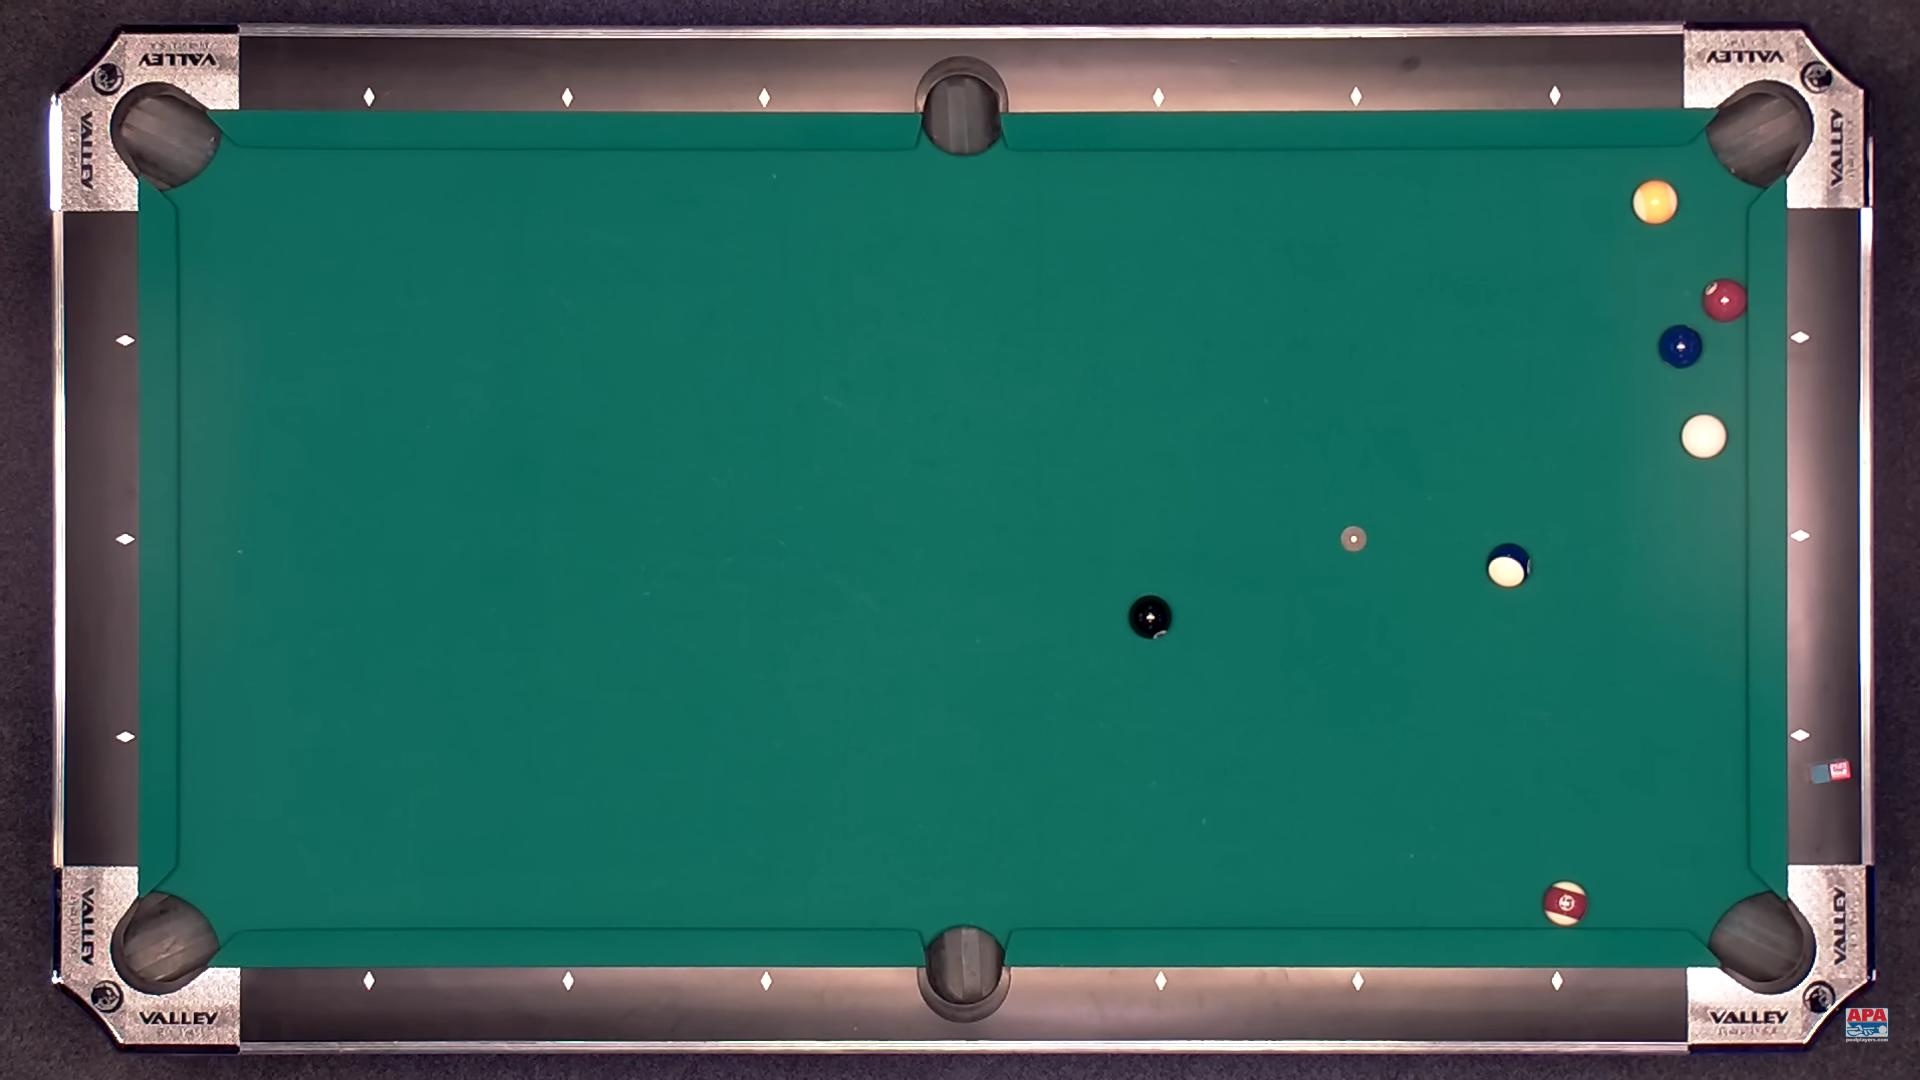Black: (1129, 595, 1172, 640)
Cue: (1681, 414, 1727, 458)
Dot: (758, 91, 773, 105), (1150, 91, 1164, 105), (1349, 90, 1364, 104), (1548, 88, 1563, 103), (1793, 530, 1808, 545), (1793, 728, 1808, 742), (760, 975, 774, 989), (560, 975, 575, 989), (363, 90, 376, 104), (559, 91, 574, 104), (1350, 975, 1364, 989), (1154, 975, 1167, 989), (361, 976, 376, 989), (119, 731, 132, 745), (119, 530, 132, 545), (117, 334, 131, 348), (1792, 330, 1805, 343), (1551, 975, 1564, 988)
Solid: (1659, 324, 1702, 369), (1704, 280, 1747, 322)
Striped: (1633, 179, 1677, 225), (1543, 880, 1589, 924), (1486, 543, 1531, 587)
